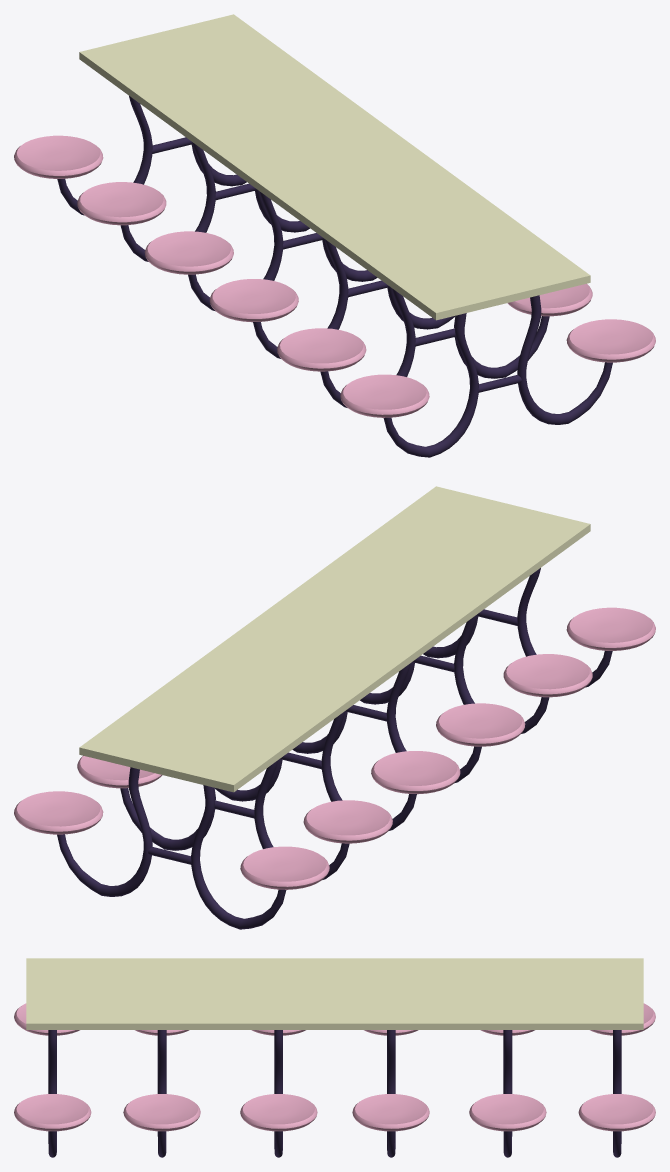
File: Cafeteria Table Plain EXPORT.fbx
3 views of the same model, one above another, from view 1: azimuth 30°, elevation 25°; view 2: azimuth 150°, elevation 25°; view 3: azimuth 270°, elevation 25° (orthographic). The views are drawn at different scales.
Visible parts, largest first — view 1: Cube, Cylinder.003, Cylinder.004, Cylinder.005, Cylinder, Cylinder.001, Cylinder.002, Cylinder.008, Cylinder.009, Cylinder.010; view 2: Cube, Cylinder.003, Cylinder.004, Cylinder.005, Cylinder, Cylinder.001, Cylinder.002, Cylinder.008, Cylinder.009, Cylinder.010; view 3: Cube, Cylinder.003, Cylinder.004, Cylinder.005, Cylinder.001, Cylinder, Cylinder.002.
Part boxes in pixels (<box>): Cube: <box>79,14,590,320</box>; Cylinder.003: <box>14,135,655,417</box>; Cylinder.004: <box>77,182,592,371</box>; Cylinder.005: <box>144,231,298,322</box>; Cylinder: <box>57,96,612,457</box>; Cylinder.001: <box>120,142,549,407</box>; Cylinder.002: <box>188,191,455,358</box>; Cylinder.008: <box>152,137,521,392</box>; Cylinder.009: <box>215,183,455,346</box>; Cylinder.010: <box>283,233,389,297</box>; Cube: <box>79,486,590,792</box>; Cylinder.003: <box>14,607,655,889</box>; Cylinder.004: <box>77,654,592,843</box>; Cylinder.005: <box>371,703,525,794</box>; Cylinder: <box>57,568,612,929</box>; Cylinder.001: <box>120,614,549,879</box>; Cylinder.002: <box>214,663,481,830</box>; Cylinder.008: <box>148,609,517,864</box>; Cylinder.009: <box>214,655,454,818</box>; Cylinder.010: <box>280,705,386,769</box>; Cube: <box>26,958,643,1029</box>; Cylinder.003: <box>14,1003,655,1131</box>; Cylinder.004: <box>123,1030,546,1131</box>; Cylinder.005: <box>240,1030,429,1131</box>; Cylinder.001: <box>157,1030,512,1157</box>; Cylinder: <box>48,1030,621,1157</box>; Cylinder.002: <box>274,1030,395,1157</box>.
Size of the model in its own units: 393 by 195 by 832.
